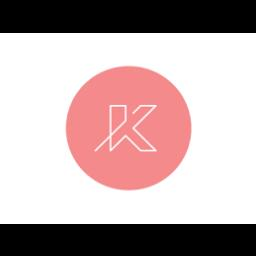k: (90, 98, 158, 156)
